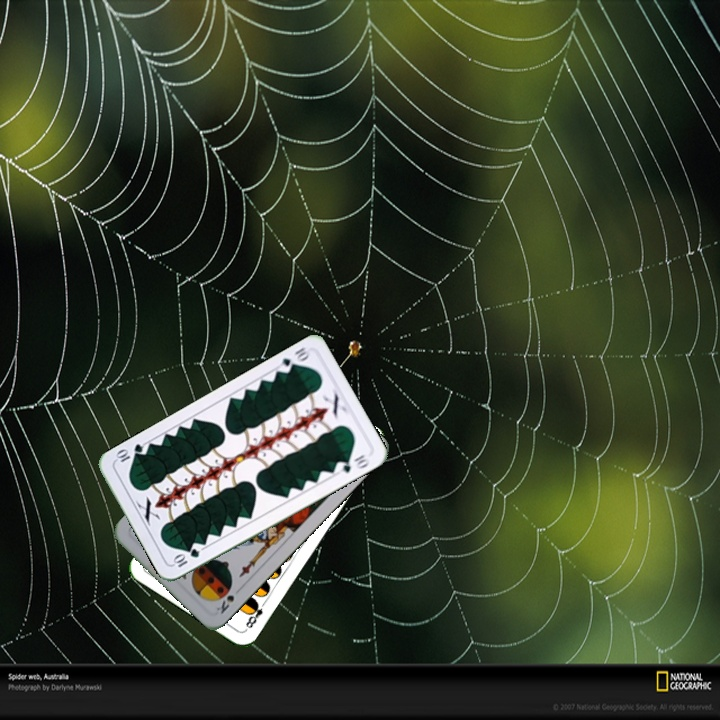E8: (241, 597, 269, 633)
G10: (274, 342, 312, 376), (169, 544, 202, 570)
SK: (212, 591, 237, 617)
